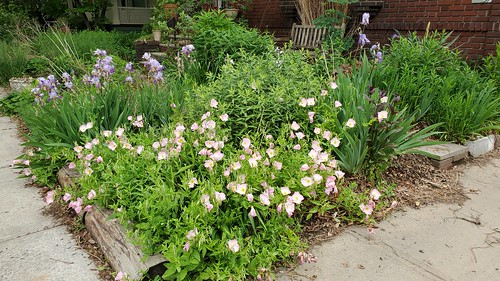vegetation: (2, 25, 500, 263)
